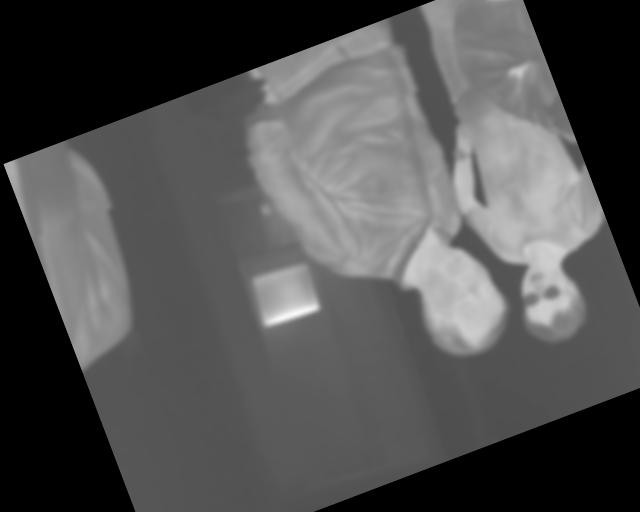face: (400, 233, 521, 369), (506, 251, 596, 352)
